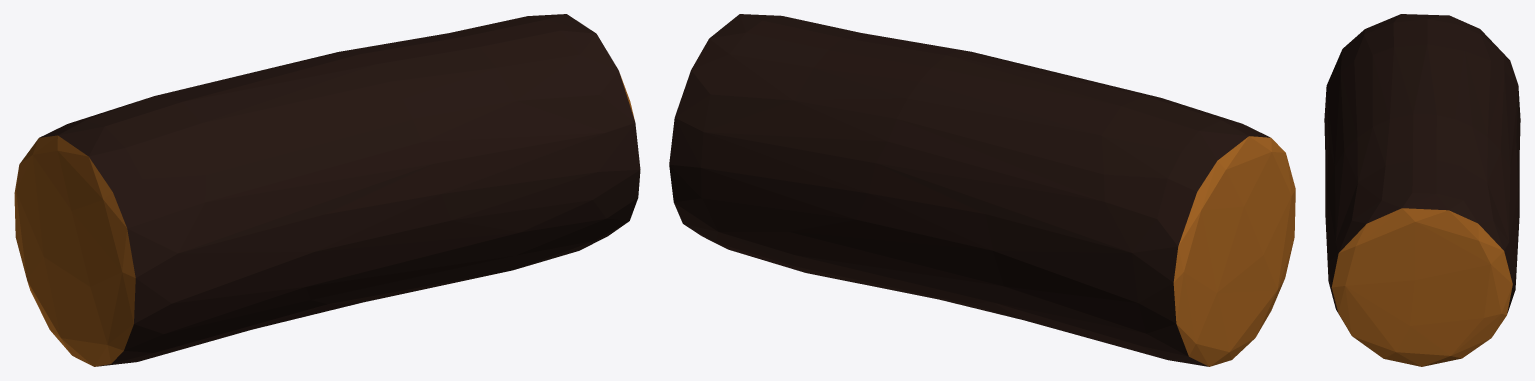
Rendered from OriginalLog.obj.
3 renders of one model, left to right at view 1: azimuth 30°, elevation 25°; view 2: azimuth 150°, elevation 25°; view 3: azimuth 270°, elevation 25°, orthographic. The views are drawn at different scales.
Visible parts, largest first — view 1: Cylinder.003; view 2: Cylinder.003; view 3: Cylinder.003.
Part boxes in pixels (x1,y1,x2,y2): Cylinder.003: (14,14,640,366); Cylinder.003: (669,14,1295,366); Cylinder.003: (1324,14,1520,366).
Size of the model in its own units: 4.83 by 2.05 by 2.03.
